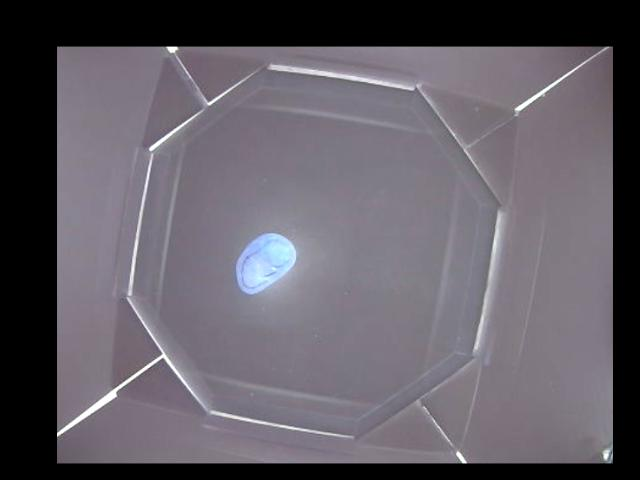Pebble: (234, 231, 296, 296)
